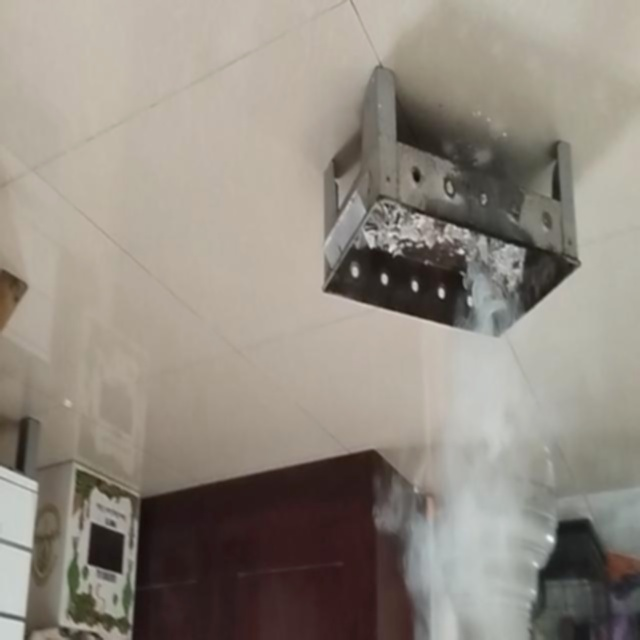smoke: (378, 234, 562, 639)
